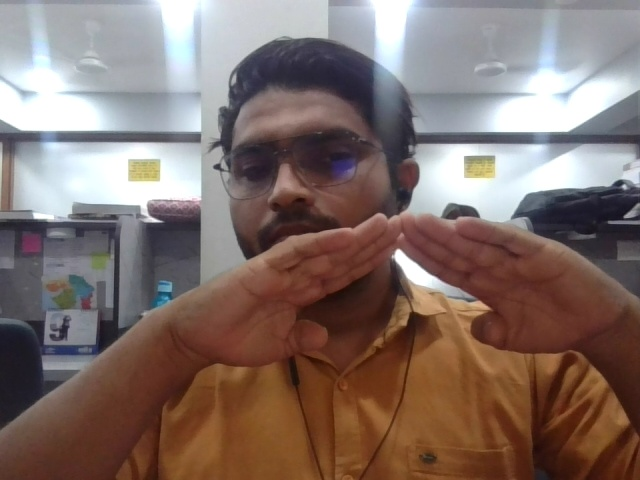ThankYou: (219, 211, 578, 365)
